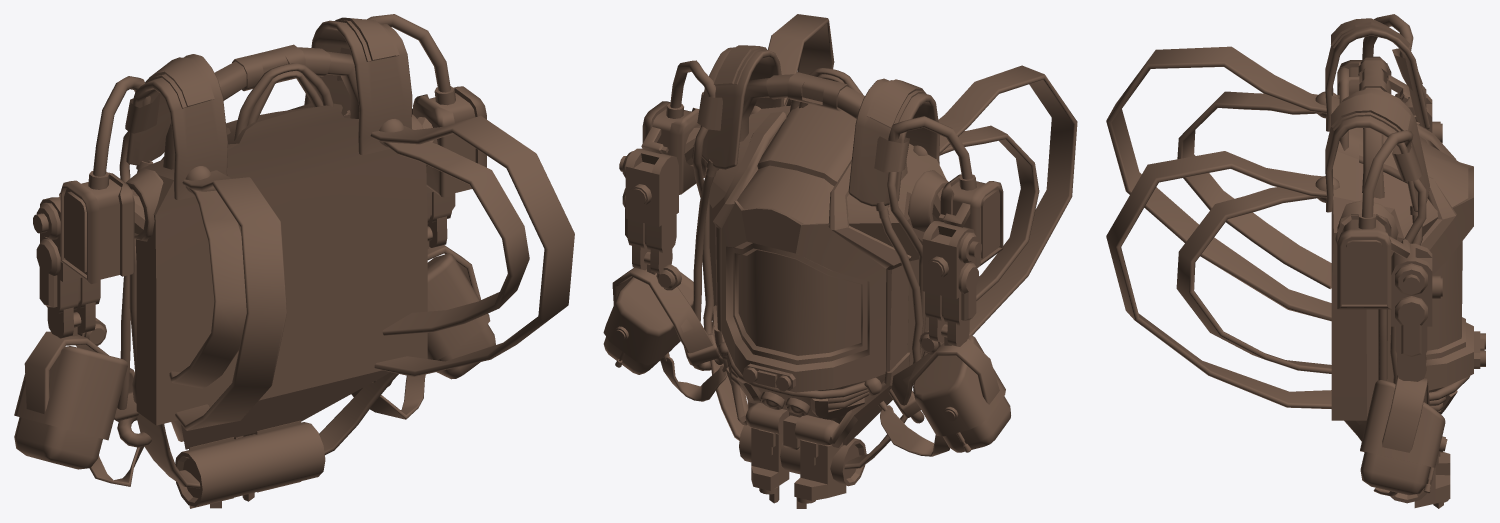
The model's file is JetPack.fbx.
The picture shows the model from 3 angles, left to right: view 1: azimuth 30°, elevation 25°; view 2: azimuth 150°, elevation 25°; view 3: azimuth 270°, elevation 25°; orthographic projection. The views are drawn at different scales.
Parts seen in each view (by area): view 1: JetPack, BeltBig, BeltSmall; view 2: JetPack, BeltBig, BeltSmall; view 3: JetPack, BeltBig, BeltSmall.
Part boxes in pixels (box(x1,y1,x2,y2)): JetPack: box(14, 14, 495, 508); BeltBig: box(175, 115, 574, 430); BeltSmall: box(169, 141, 529, 388); JetPack: box(603, 45, 1010, 508); BeltBig: box(768, 14, 1077, 335); BeltSmall: box(785, 98, 1039, 300); JetPack: box(1315, 14, 1485, 508); BeltBig: box(1106, 46, 1331, 408); BeltSmall: box(1176, 91, 1331, 373).
Size of the model in its own units: 77.47 by 79.24 by 61.75.
